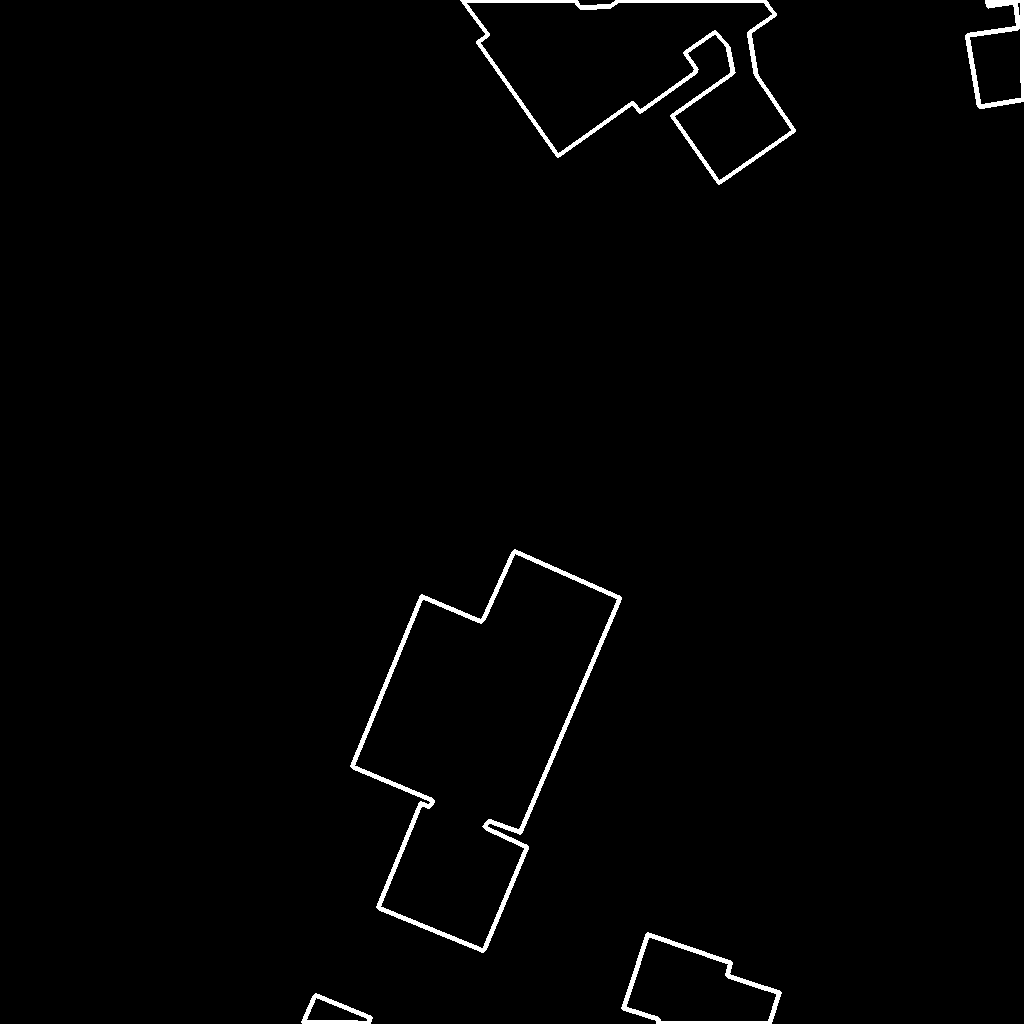building: (352, 551, 621, 952), (462, 0, 795, 184), (623, 934, 781, 1024), (967, 0, 1024, 108), (303, 995, 372, 1024)
